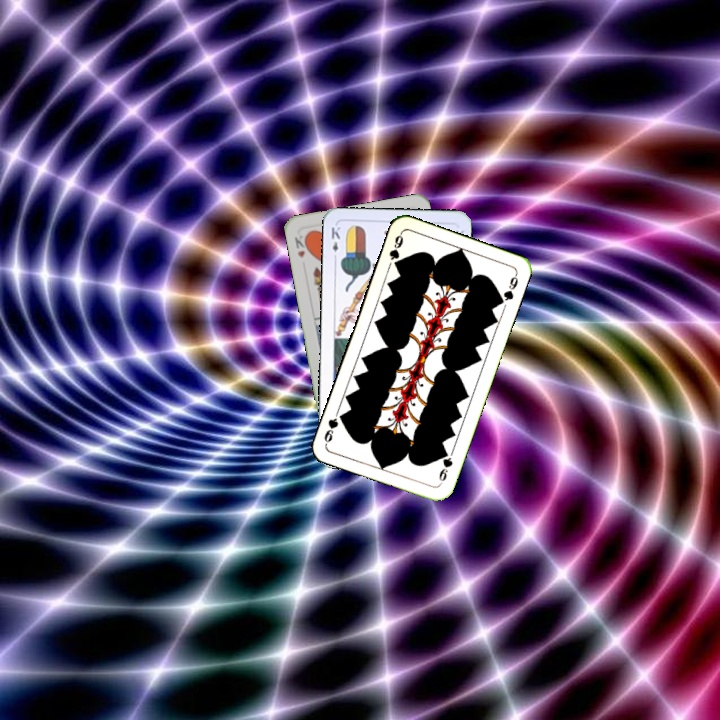EK: (327, 223, 343, 263)
G9: (385, 229, 406, 271), (435, 447, 455, 487)
HK: (291, 231, 311, 261)
